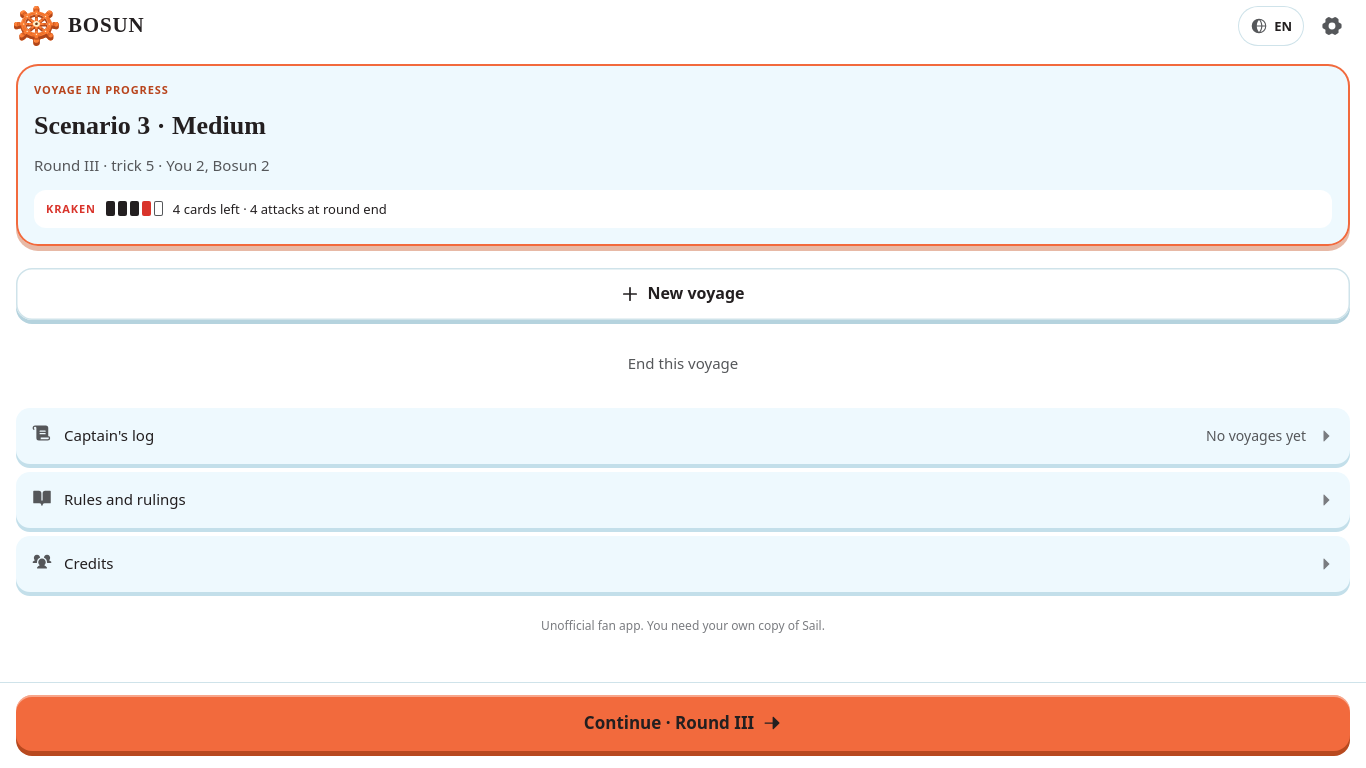
Home · voyage in progress (A3) › ends the voyage only after asking
Click the button "End this voyage" at (683, 364), box left=622, top=342, right=744, bottom=386
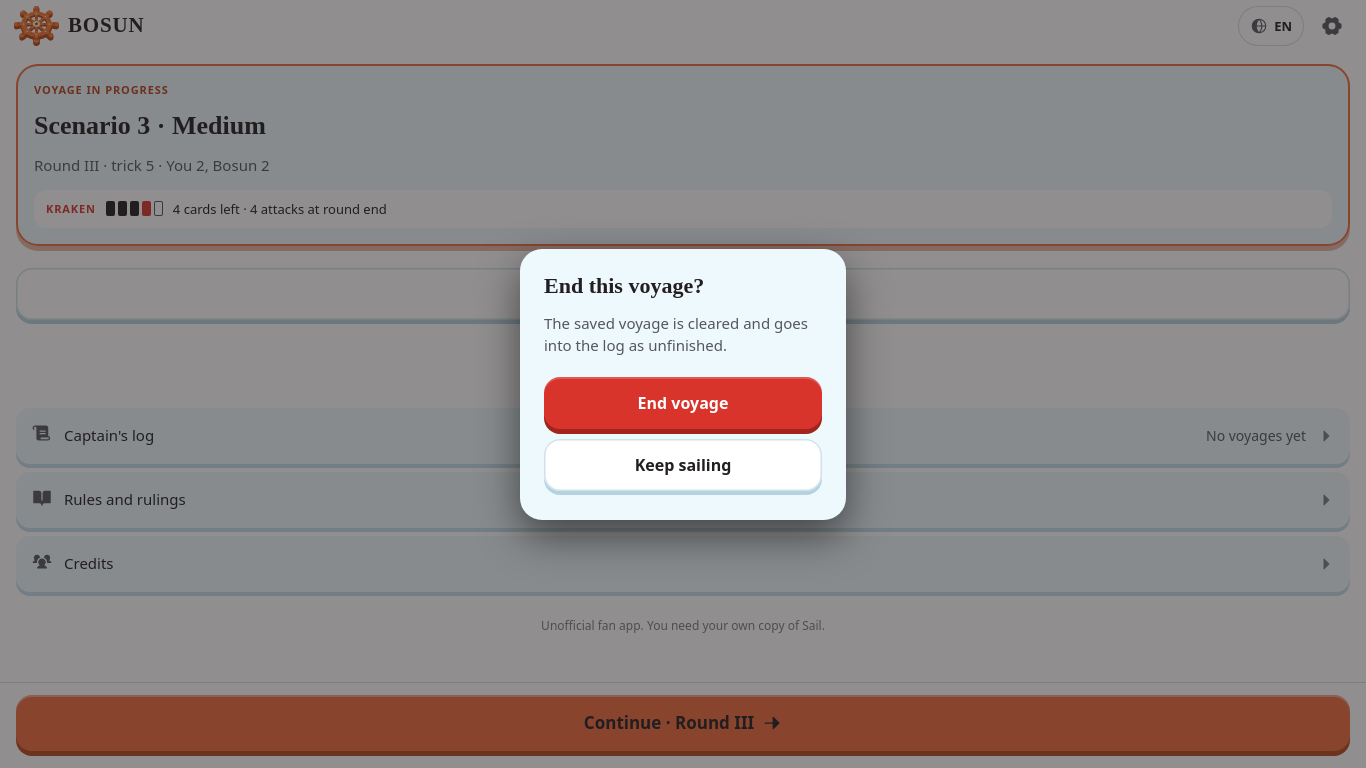
Click the button "Keep sailing" at (683, 464), box left=544, top=438, right=822, bottom=490
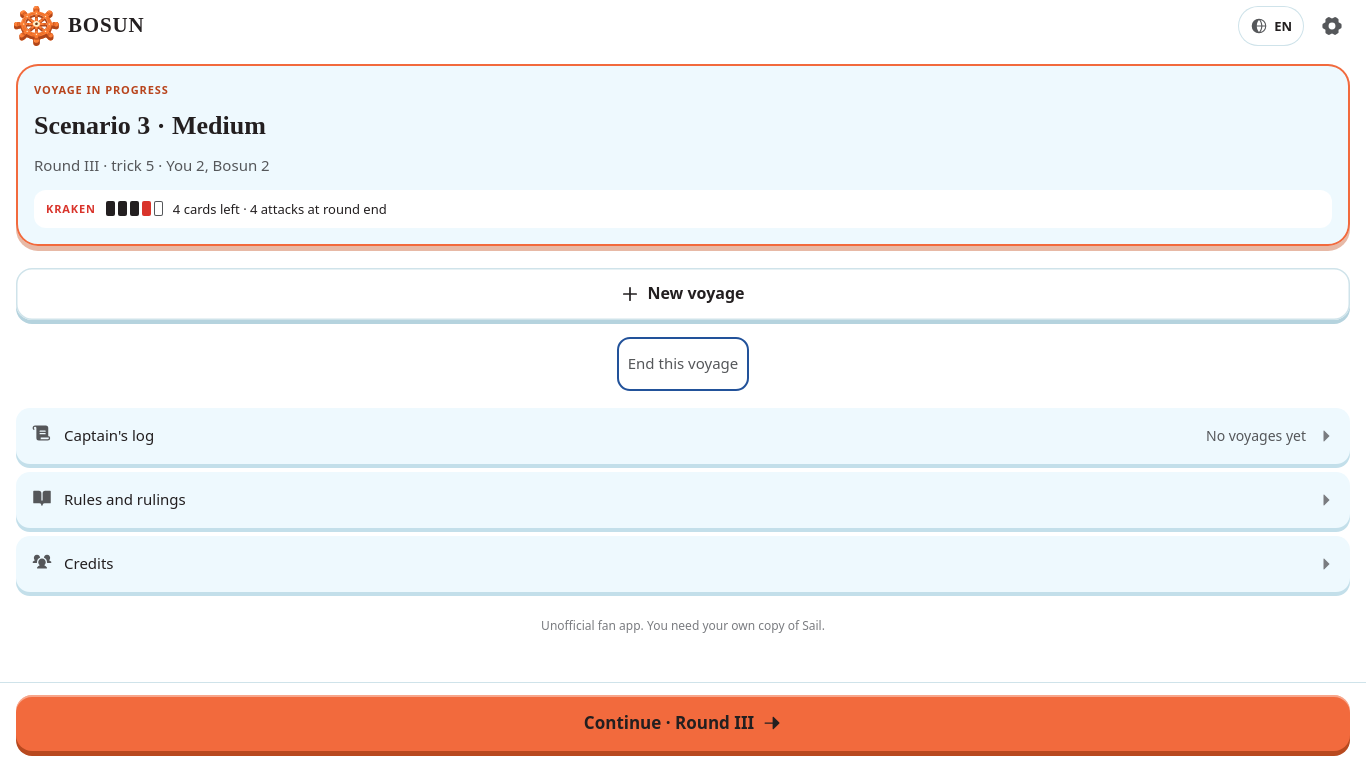
Result: the dialog is gone
Click the button "End this voyage" at (683, 364), box left=622, top=342, right=744, bottom=386
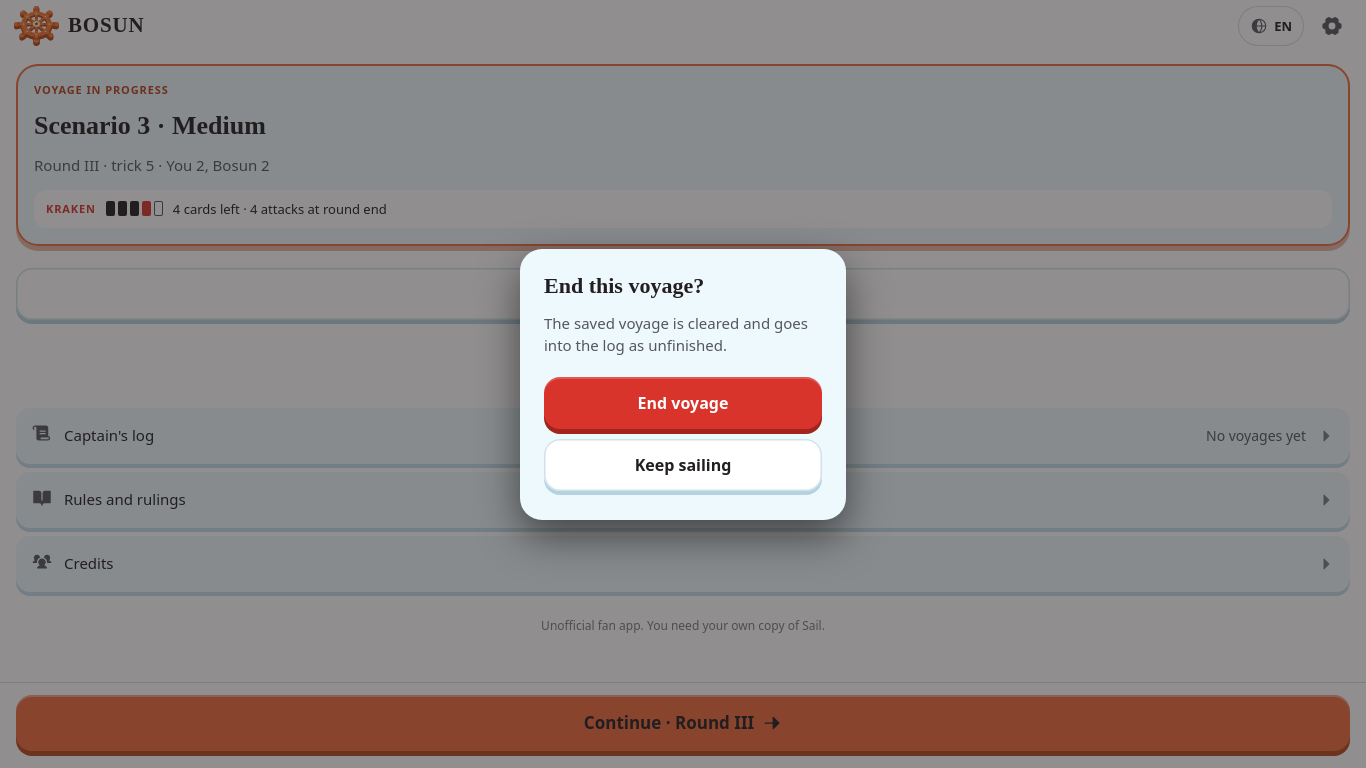
Click the button "End voyage" at (683, 402), box left=544, top=376, right=822, bottom=428
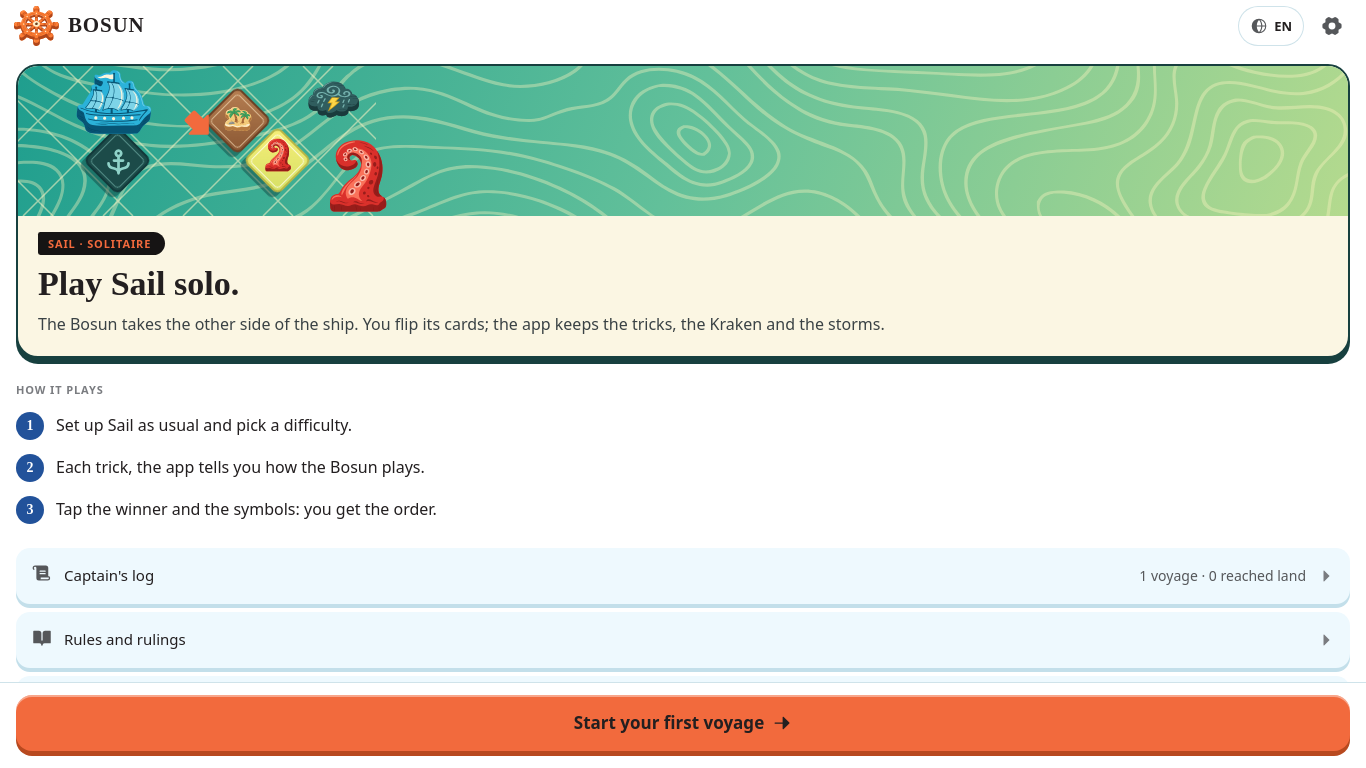
Result: the button "Start your first voyage" is shown at left=16, top=695, right=1350, bottom=751
